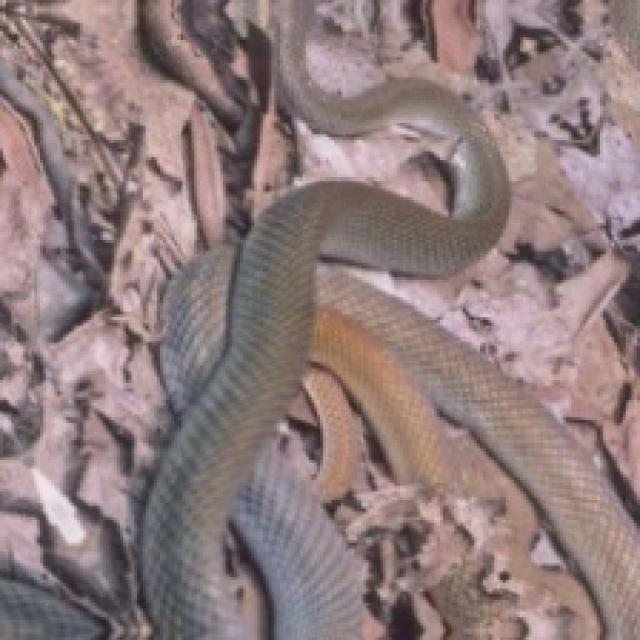reddish rat snake: (136, 0, 640, 640)
